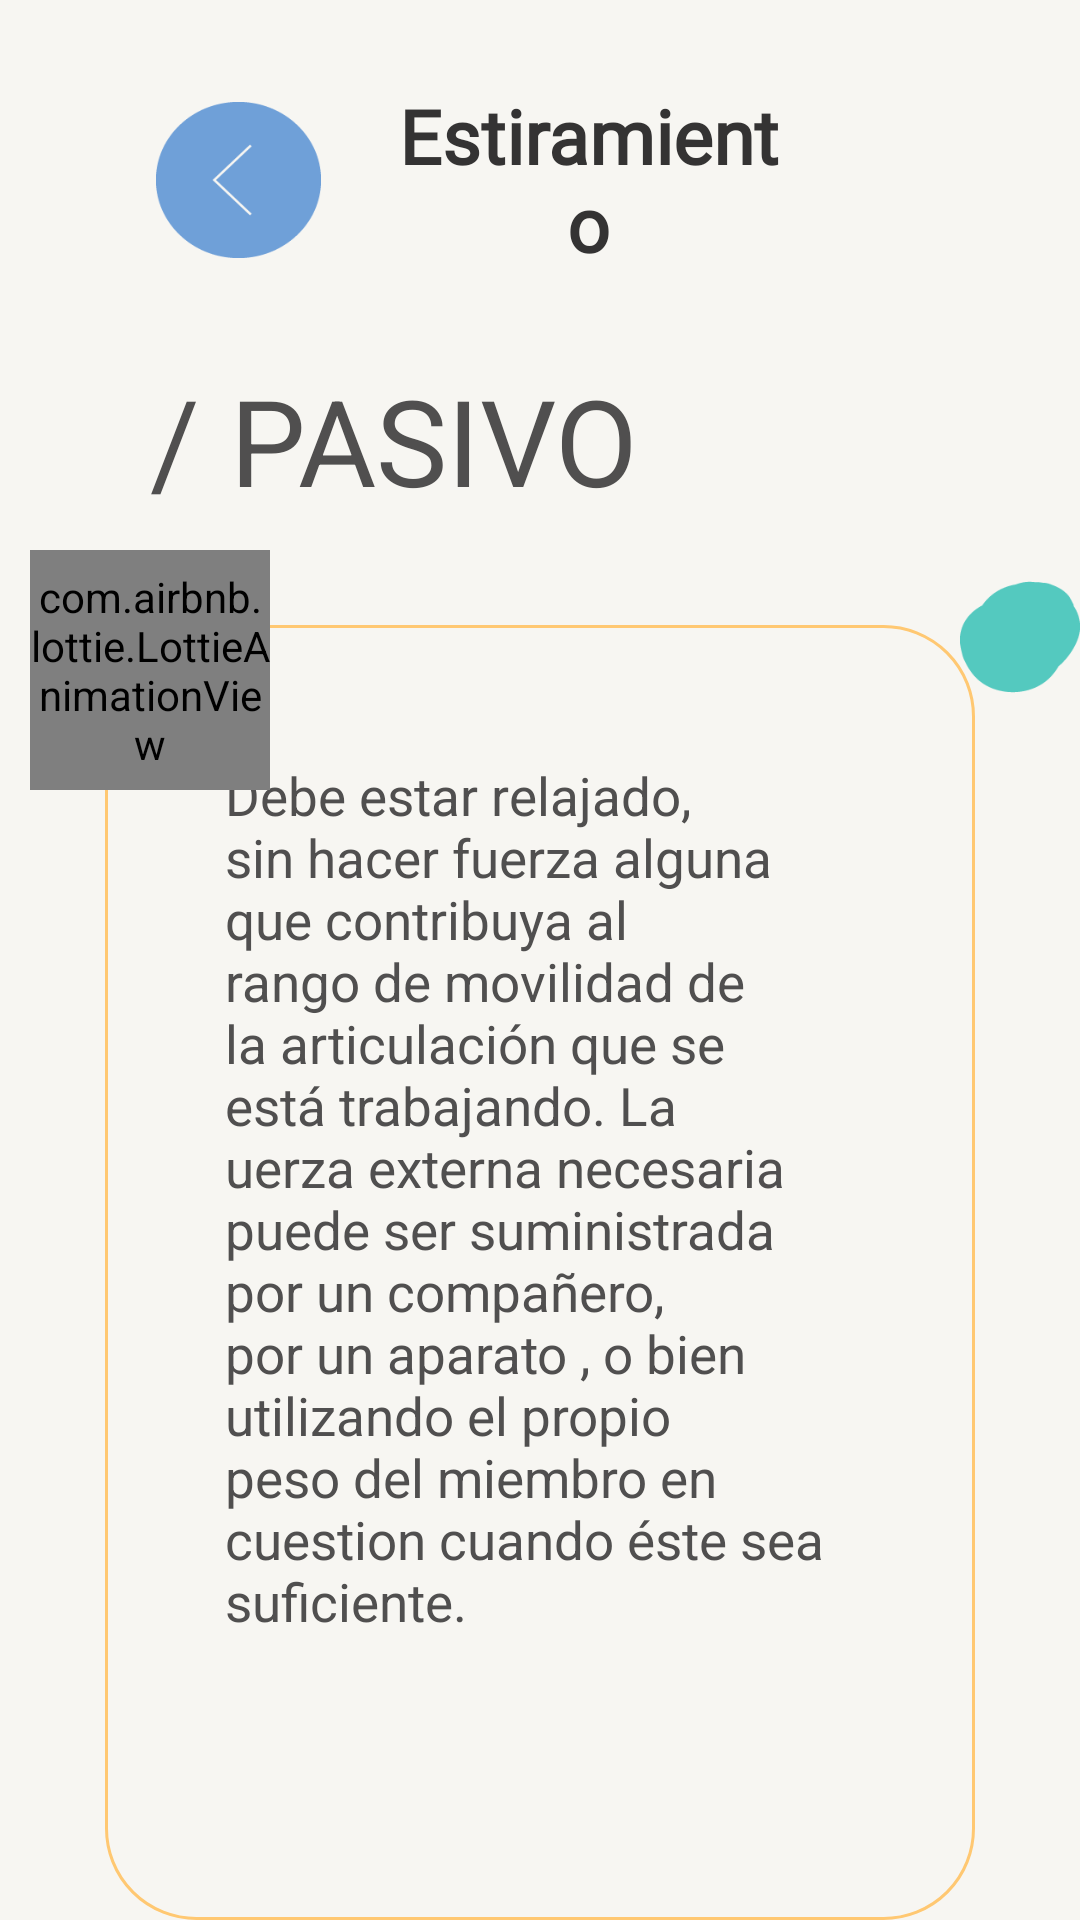

Icons on this 1080px x 1920px Android screen, each with the point to tap as (x=x, y=y):
mancha xxdpi: (x=1020, y=637)
regresar xxxdpi: (x=238, y=180)
